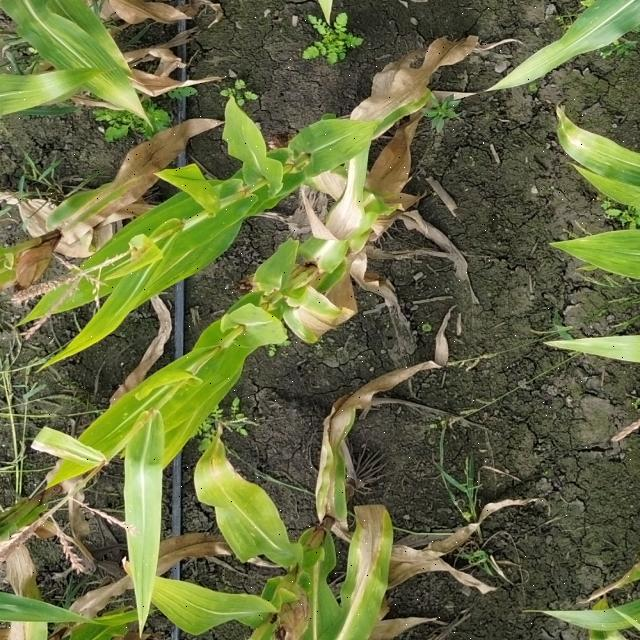northern-leaf-blight: (352, 496, 418, 640), (278, 284, 358, 350), (305, 123, 375, 176)
southern-leaf-blight: (88, 350, 231, 451)
